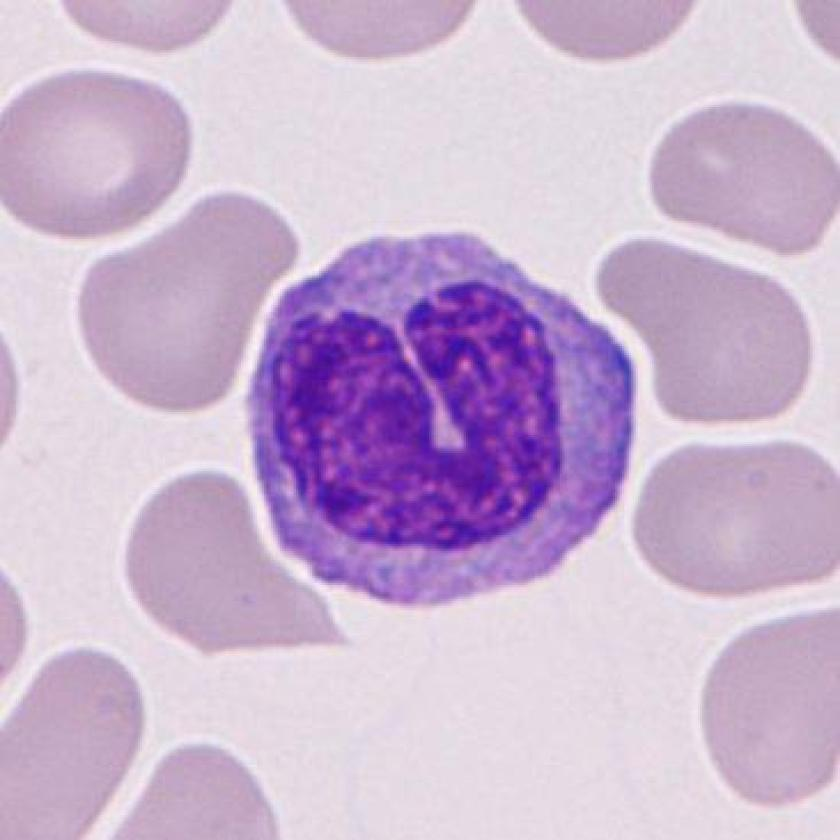monocyte: (217, 204, 653, 629)
